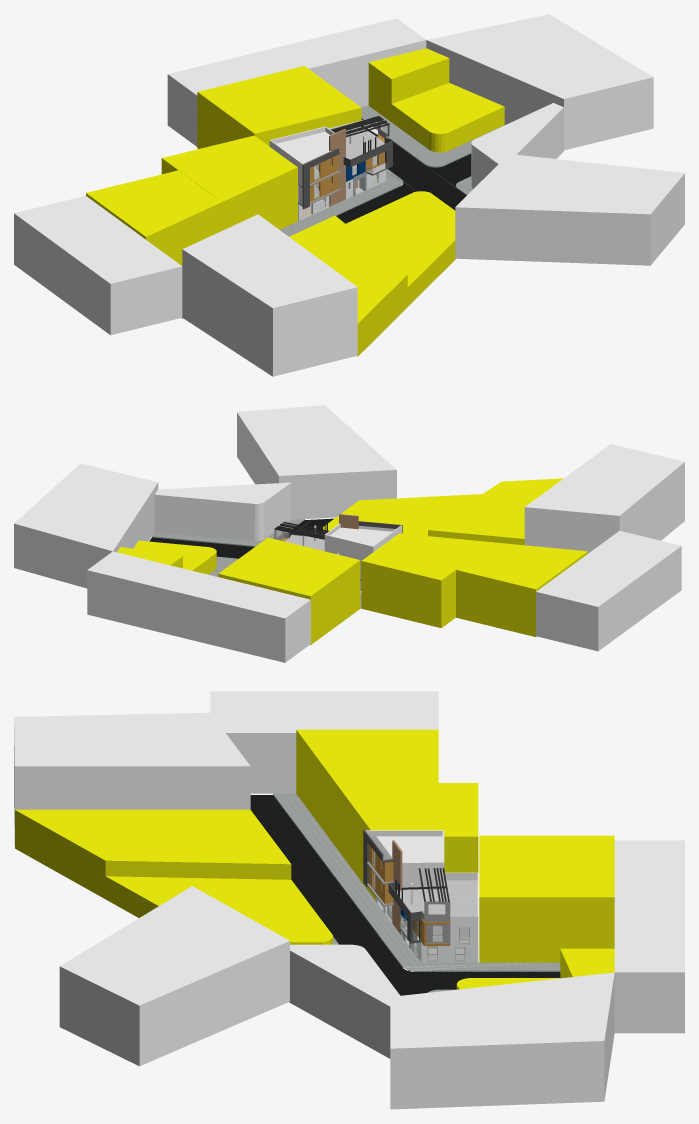
File: djoli_villa.fbx
3 renders of one model, top to bottom at view 1: azimuth 30°, elevation 25°; view 2: azimuth 150°, elevation 25°; view 3: azimuth 270°, elevation 25°, orthographic. The views are drawn at different scales.
Visible parts, largest first — view 1: Paint - Glossy White, Paint - Cadmium Yellow, Pavement - Asphalt Dark 23, Pavement - Brick Gray 23, Paint - Dark Gray, Paint - Golden Ochre, Ceiling - Tile-60x120, Paint - Sienna Sand, Ceramic - Porcelain, Paint - Anthracite, Paint - Light Gray; view 2: Paint - Glossy White, Paint - Cadmium Yellow, Pavement - Brick Gray 23, Pavement - Asphalt Dark 23, Paint - Anthracite; view 3: Paint - Glossy White, Paint - Cadmium Yellow, Pavement - Asphalt Dark 23, Pavement - Brick Gray 23, Ceiling - Tile-60x120, Paint - Light Gray, Paint - Golden Ochre, Paint - Dark Gray, Ceramic - Porcelain, Glass - Clear Fast, Paint - Anthracite, Paint - Sienna Sand.
Boxes of the visible parts, box(x1,y1,x2,y2) form: Paint - Glossy White: box(14, 14, 684, 376); Paint - Cadmium Yellow: box(86, 48, 504, 356); Pavement - Asphalt Dark 23: box(336, 119, 471, 223); Pavement - Brick Gray 23: box(181, 105, 504, 318); Paint - Dark Gray: box(302, 137, 392, 209); Paint - Golden Ochre: box(310, 134, 384, 202); Ceiling - Tile-60x120: box(302, 127, 385, 219); Paint - Sienna Sand: box(329, 129, 345, 206); Ceramic - Porcelain: box(298, 170, 385, 220); Paint - Anthracite: box(331, 116, 389, 153); Paint - Light Gray: box(298, 120, 389, 206); Paint - Glossy White: box(14, 405, 684, 662); Paint - Cadmium Yellow: box(117, 478, 587, 644); Pavement - Brick Gray 23: box(152, 519, 304, 576); Pavement - Asphalt Dark 23: box(149, 518, 333, 558); Paint - Anthracite: box(274, 520, 328, 539); Paint - Glossy White: box(14, 691, 684, 1109); Paint - Cadmium Yellow: box(15, 729, 614, 989); Pavement - Asphalt Dark 23: box(250, 795, 560, 995); Pavement - Brick Gray 23: box(273, 793, 560, 992); Ceiling - Tile-60x120: box(378, 880, 477, 959); Paint - Light Gray: box(367, 836, 468, 948); Paint - Golden Ochre: box(369, 845, 450, 945); Paint - Dark Gray: box(363, 830, 422, 943); Ceramic - Porcelain: box(375, 897, 475, 962); Glass - Clear Fast: box(372, 851, 469, 960); Paint - Anthracite: box(395, 868, 449, 901); Paint - Sienna Sand: box(392, 840, 402, 933).
Size of the model in its own units: 11349 by 9008 by 1268.
Materials: 24 (10 with a texture image).
